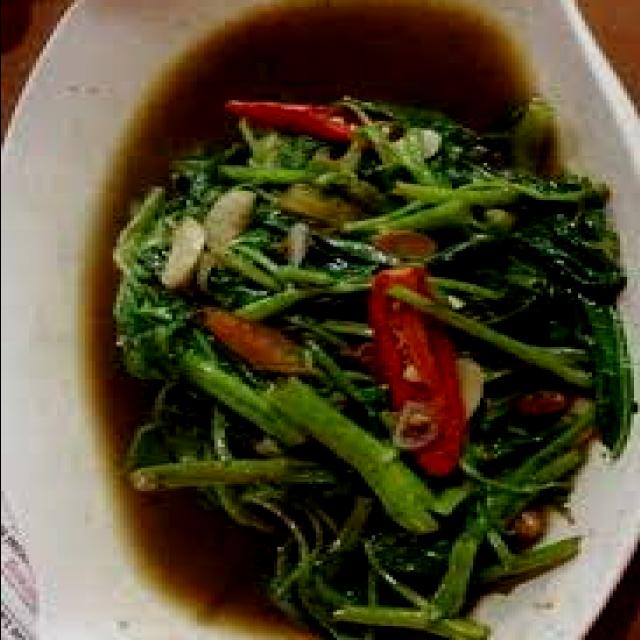tumis kangkung: (110, 70, 627, 630)
